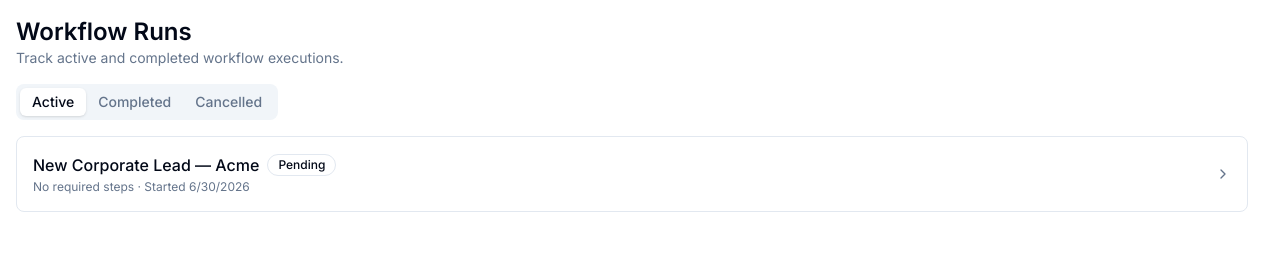
it: BusinessContextSection — no entity › shows btn-attach-entity when run is pending and no entity
Click the button.
click(146, 165)  # box [16, 136, 1248, 212]
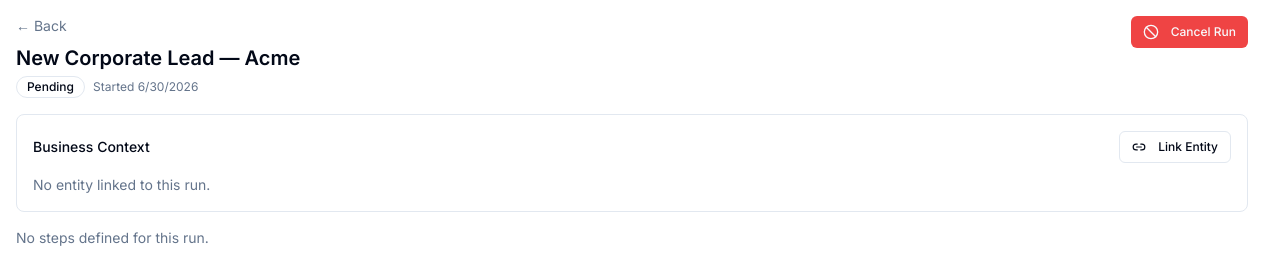
Expected: the button with test id "btn-attach-entity" is shown, [1119, 131, 1231, 163]
